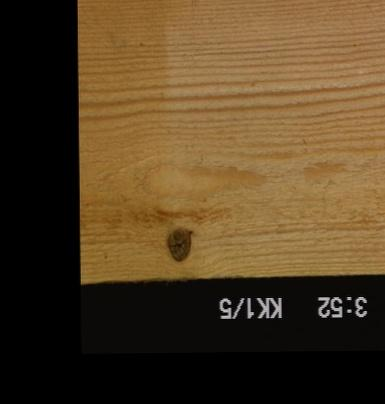dry_knot: (165, 225, 194, 261)
